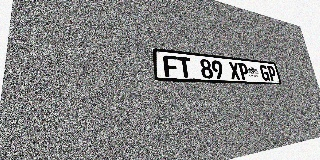plate: (152, 48, 282, 84)
